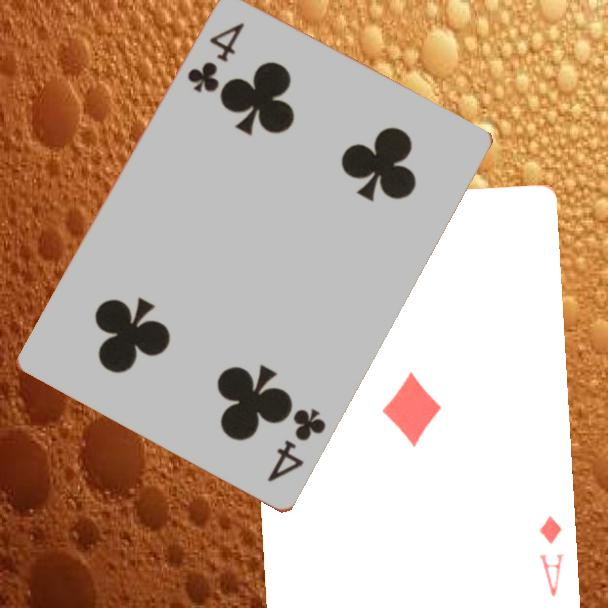c04: (264, 405, 329, 486), (183, 19, 248, 97)
d01: (535, 512, 567, 599)
